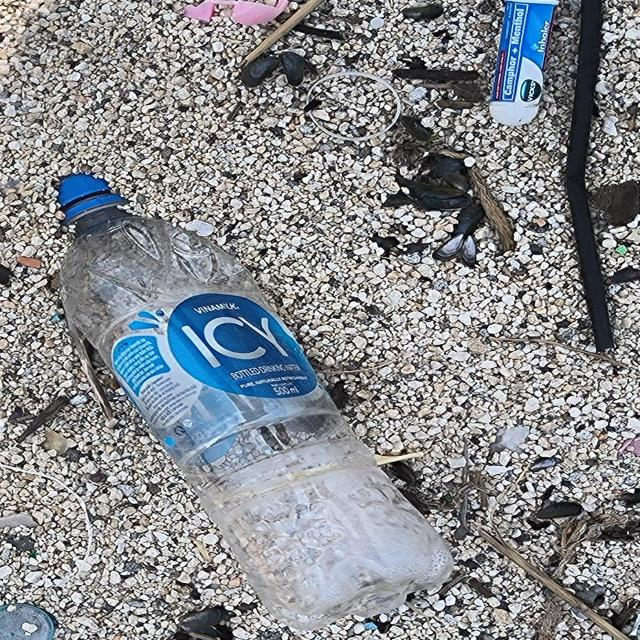plastic_waste: (54, 175, 459, 630)
